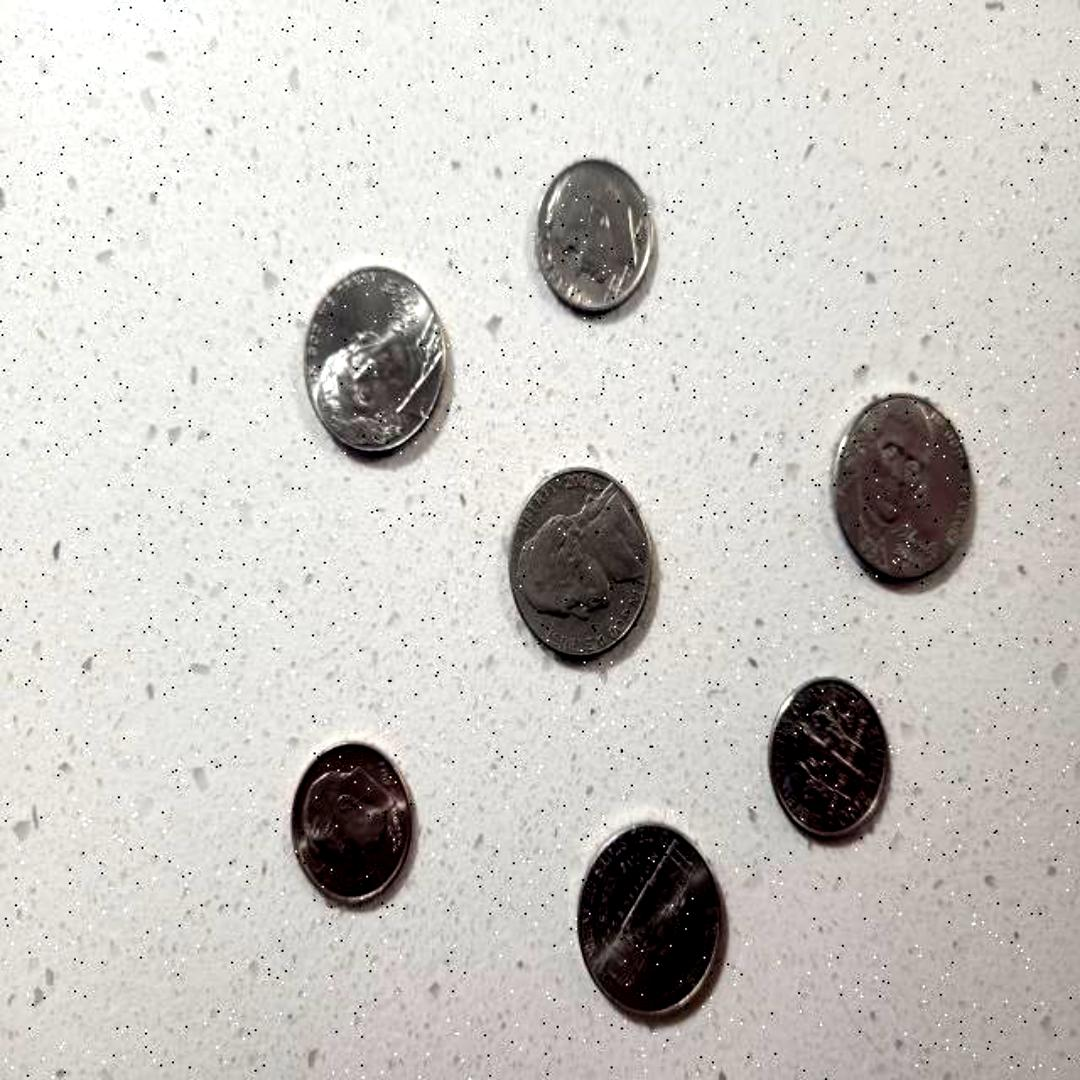Dime: (281, 735, 421, 915), (764, 670, 894, 850), (528, 154, 661, 318)
Nickel: (499, 455, 661, 671), (572, 814, 728, 1024), (829, 392, 979, 592), (300, 262, 450, 458)
